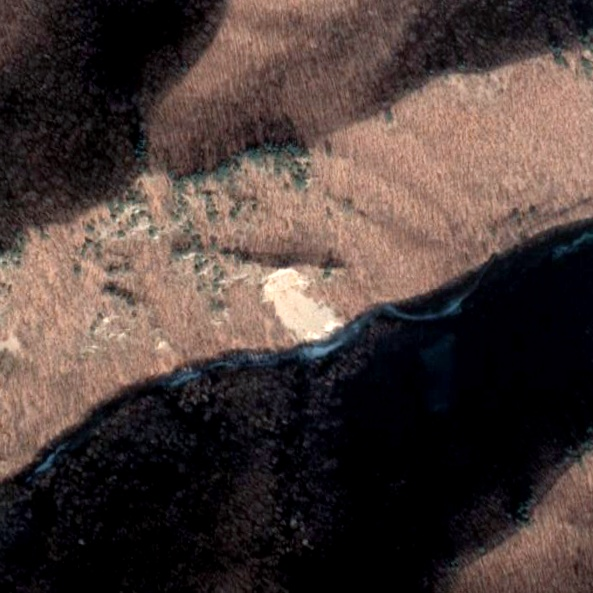slope: (256, 262, 365, 356)
